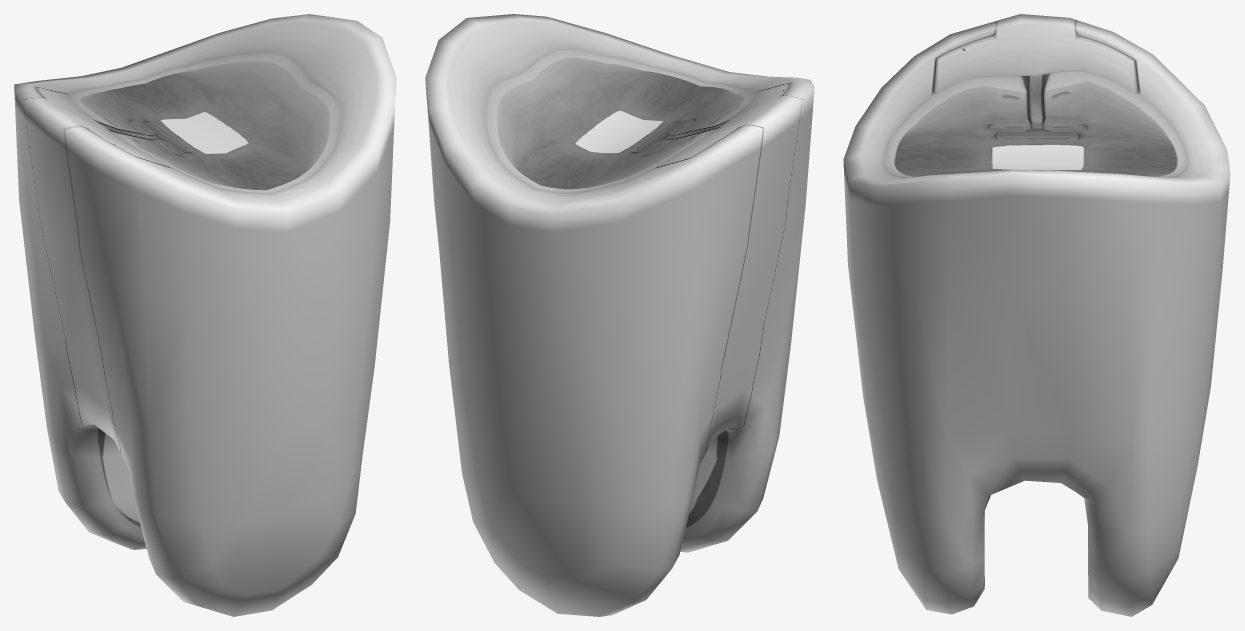
The model's file is arm_5.dae.
3 renders of one model, left to right at view 1: azimuth 30°, elevation 25°; view 2: azimuth 150°, elevation 25°; view 3: azimuth 270°, elevation 25°, orthographic.
Visible parts, largest first — view 1: default; view 2: default; view 3: default.
Boxes of the visible parts, bbox=[...] form: default: bbox=[14, 14, 396, 616]; default: bbox=[425, 14, 814, 616]; default: bbox=[843, 14, 1230, 616].
Bounding box in the file's own units: 0.1368 × 0.1369 × 0.2006.
1 material, 1 textured.
